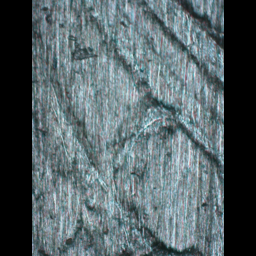d: (49, 82, 205, 255), (123, 1, 222, 178)
